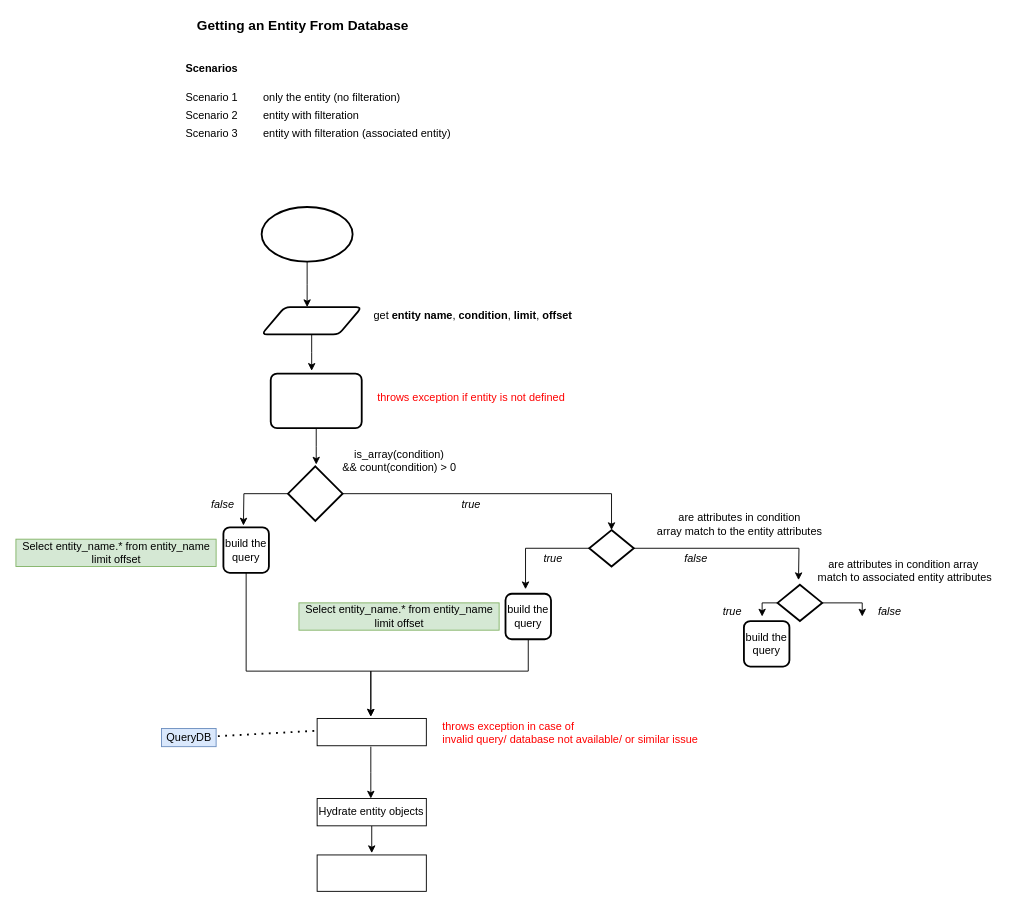
The diagram is 1015 pixels wide and 907 high, and some of its shapes have lost their labels. Here are the shapes that lost their labels. From the top down, the centre of each, then its label:
At point (306, 234): "start".
At point (315, 400): "get entity data from entity data configuration".
At point (371, 732): "execute the query and return the result".
At point (371, 872): "Add tracking to newly created entity objects".
